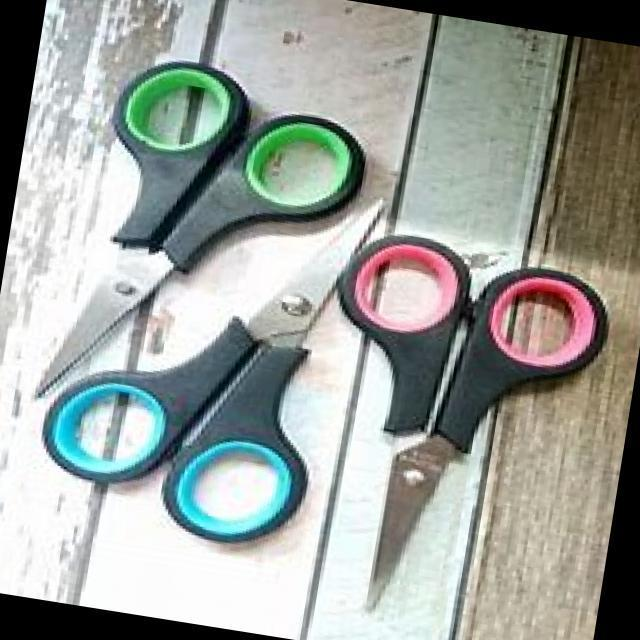scissors: (266, 205, 615, 640), (0, 59, 288, 424)
